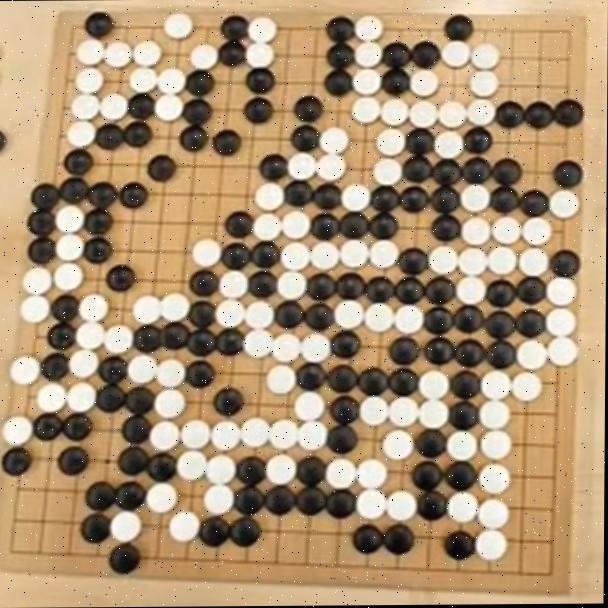corners: (529, 553, 573, 592), (56, 10, 92, 43), (548, 18, 588, 46), (0, 535, 31, 566)
